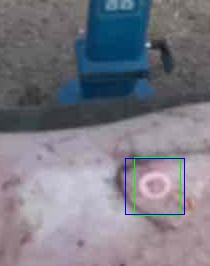text: (134, 157, 180, 215)
